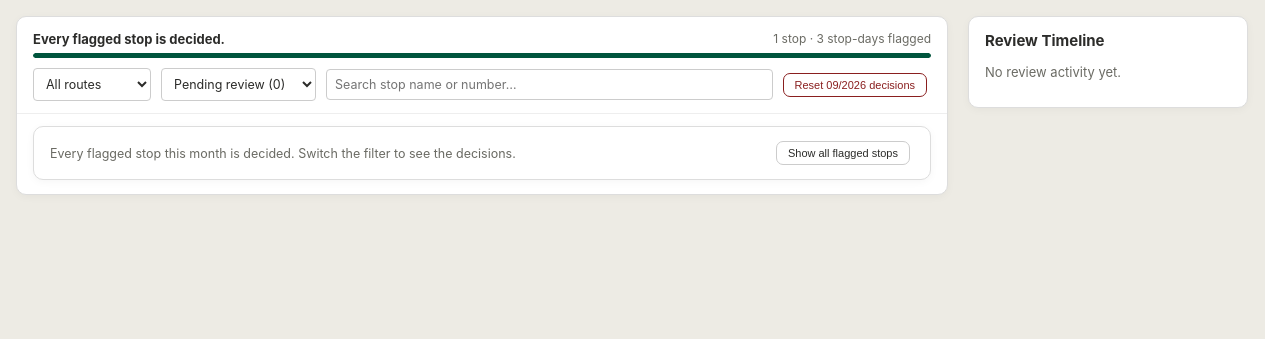
it: changing a decision that is already made › closes the card again on Cancel without deciding anything
This screenshot has width=1265, height=339.
Select "Decided (1)" in the dropdown named "Status" at (238,84), box [161, 68, 316, 101]
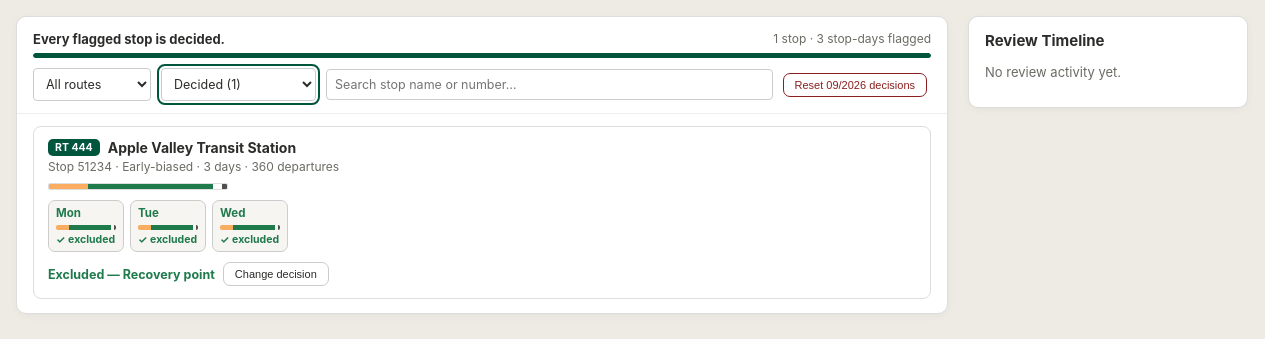
Click the button with aria-label "Change the decision" at (276,274), box [223, 262, 329, 286]
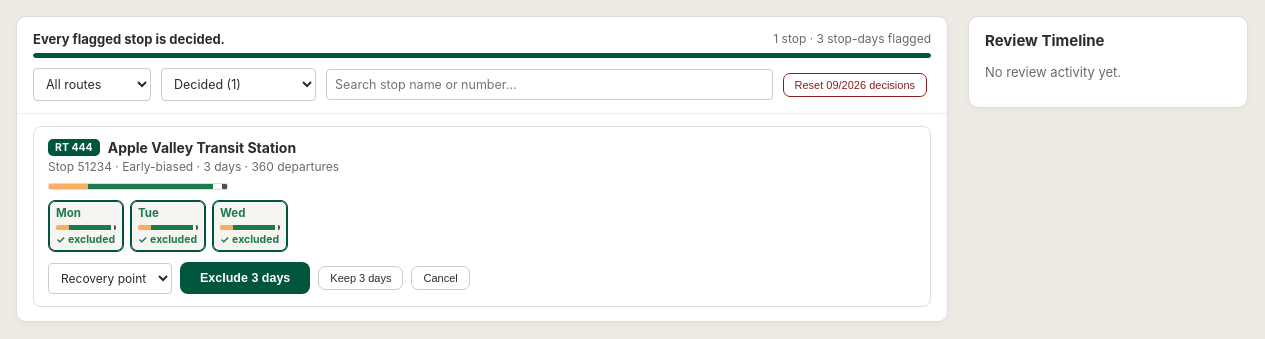
Click the button "Cancel" at (441,278), box [412, 266, 470, 290]
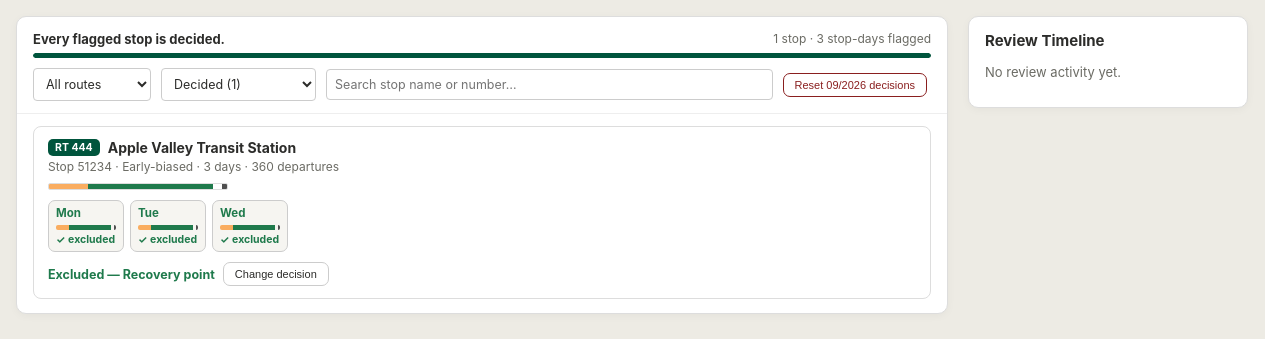
Result: the text "Excluded — Recovery point" is shown at [48, 267, 215, 282]
